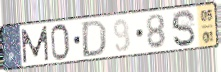0: (49, 22, 71, 61)
8: (144, 14, 167, 50)
9: (112, 17, 132, 54)
D: (81, 19, 108, 59)
M: (20, 24, 51, 65)
S: (170, 9, 198, 49)
